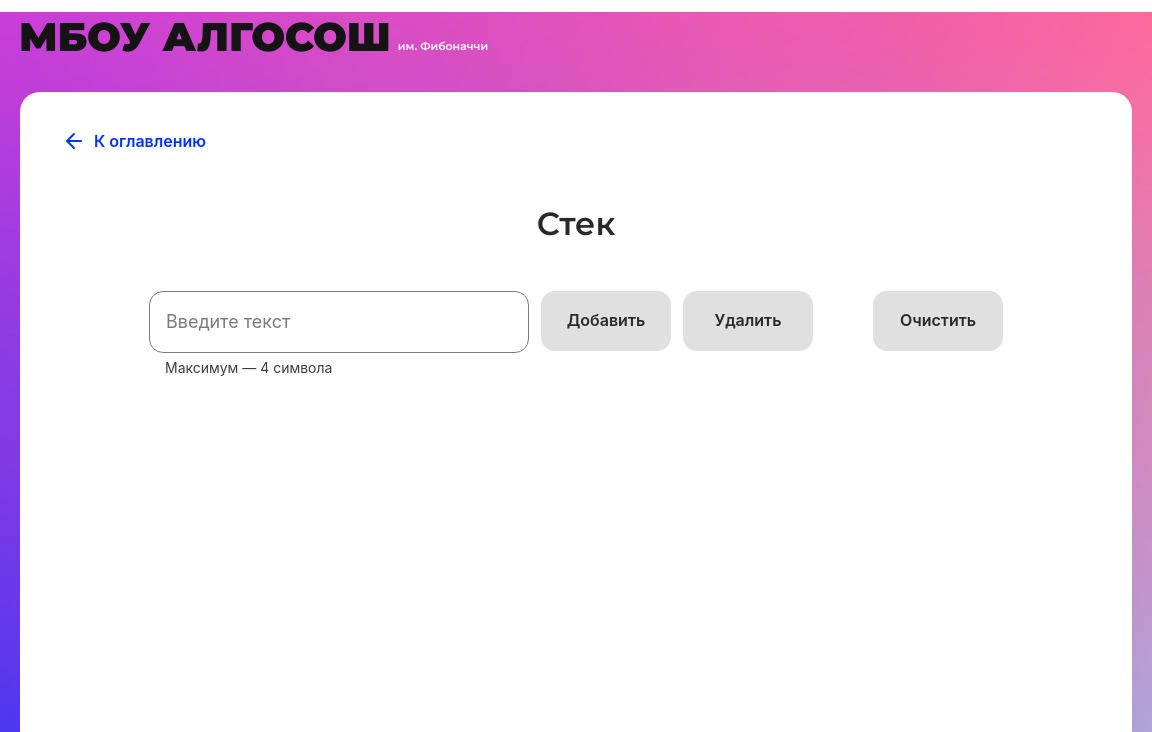
Test: stack works right › element removal works right
Type "1" into the field with test id "mainInput" at (339, 322), box x1=149 y1=291 x2=529 y2=353
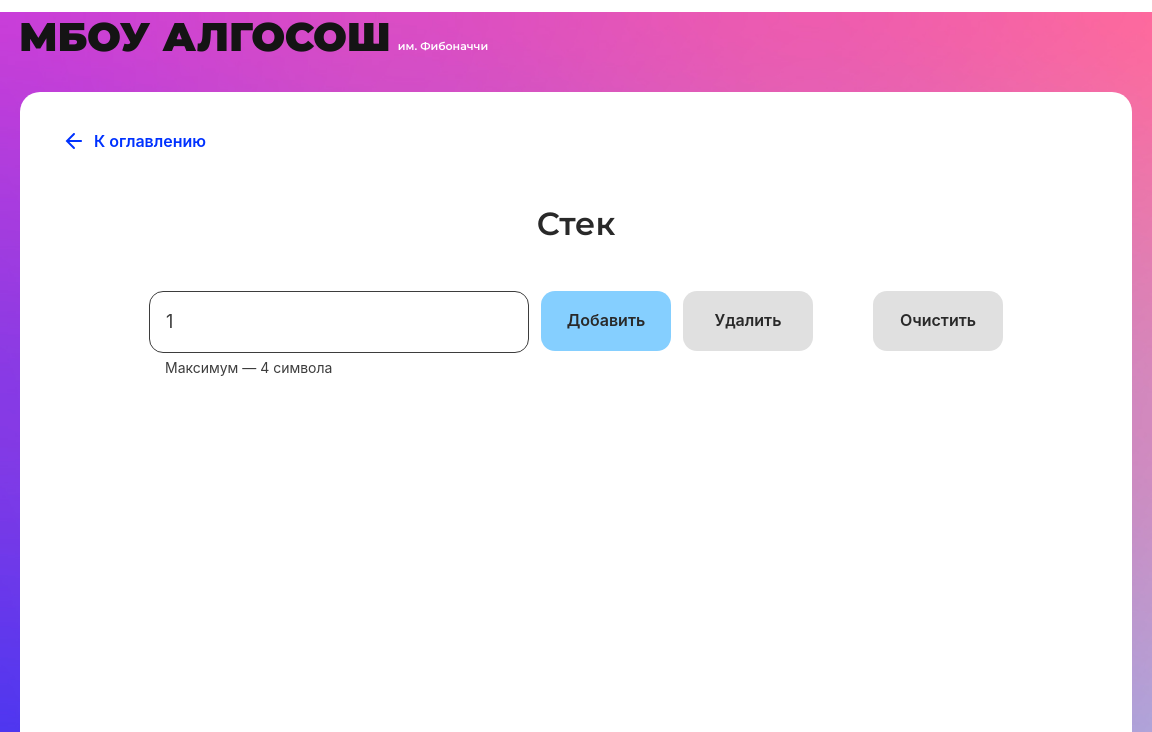
Click the button with test id "actionButton" at (606, 321), box x1=541 y1=291 x2=671 y2=351
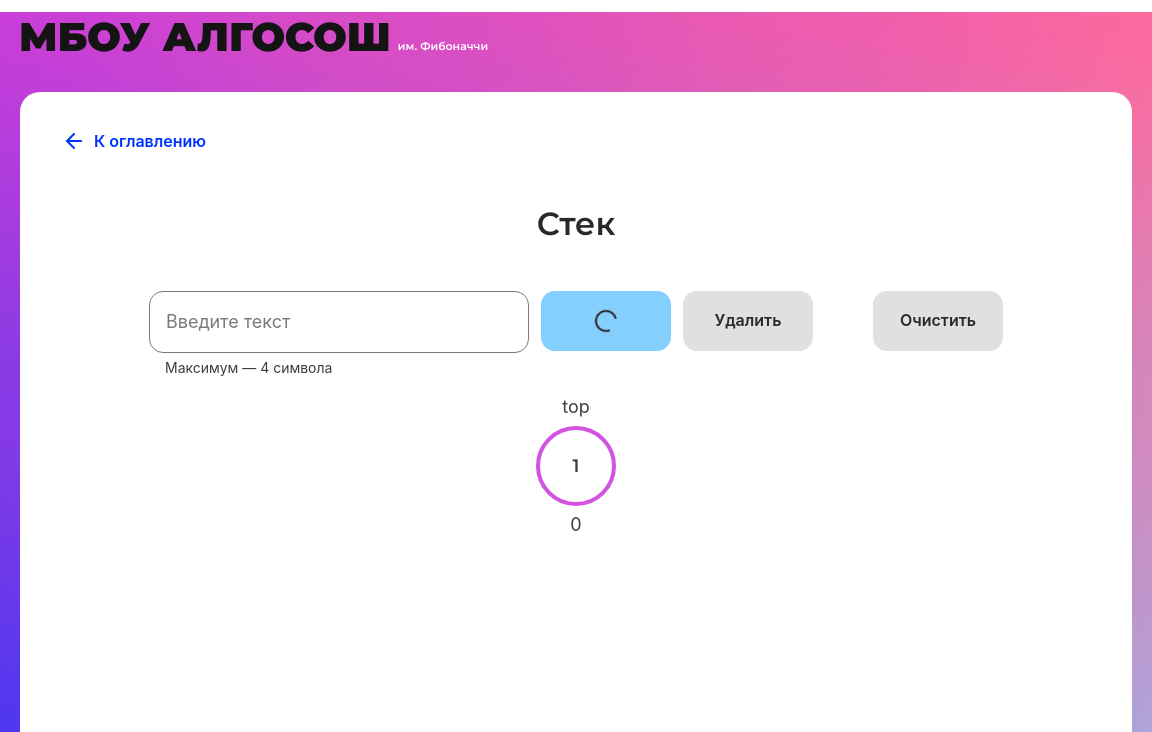
Type "2" into the field with test id "mainInput" at (339, 322), box x1=149 y1=291 x2=529 y2=353
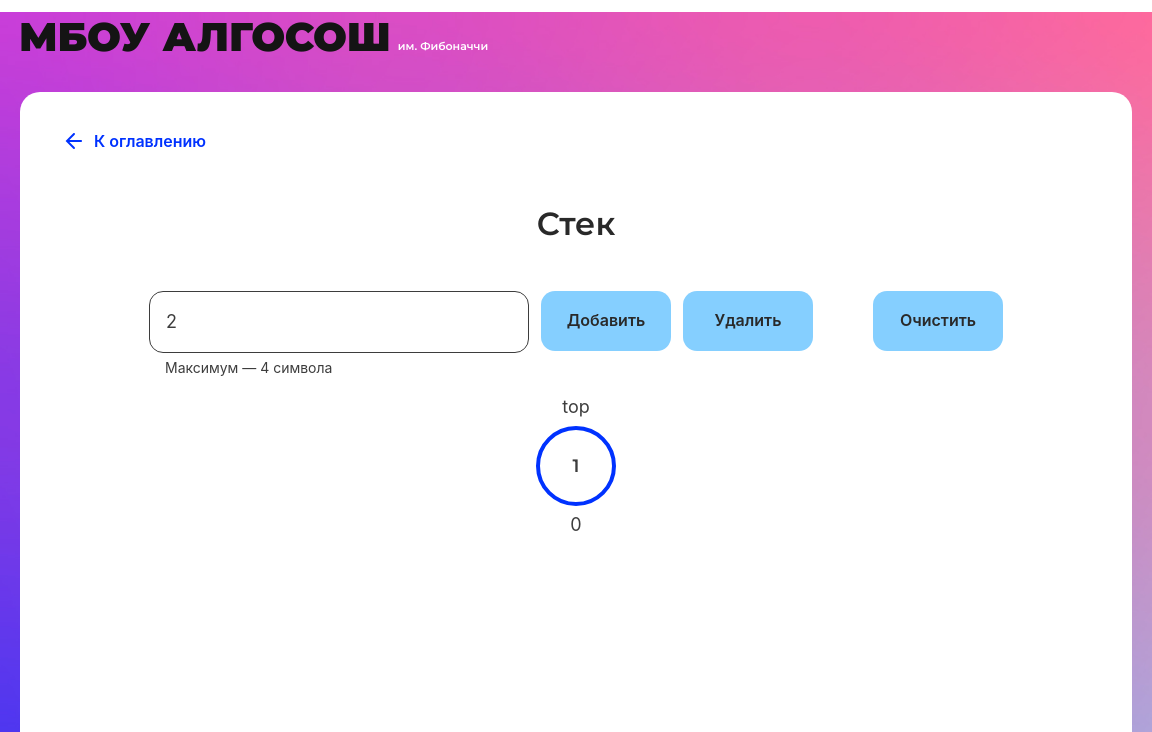
Click the button with test id "actionButton" at (606, 321), box x1=541 y1=291 x2=671 y2=351
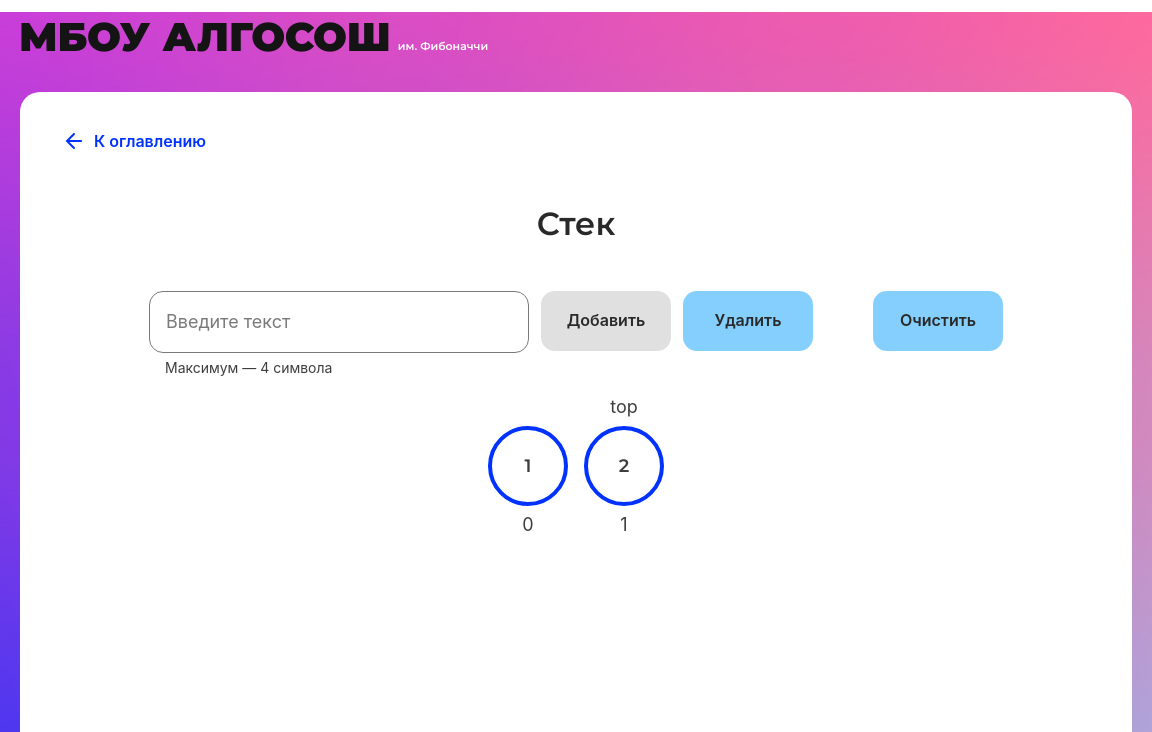
Click the button with test id "delButton" at (748, 321), box x1=683 y1=291 x2=813 y2=351
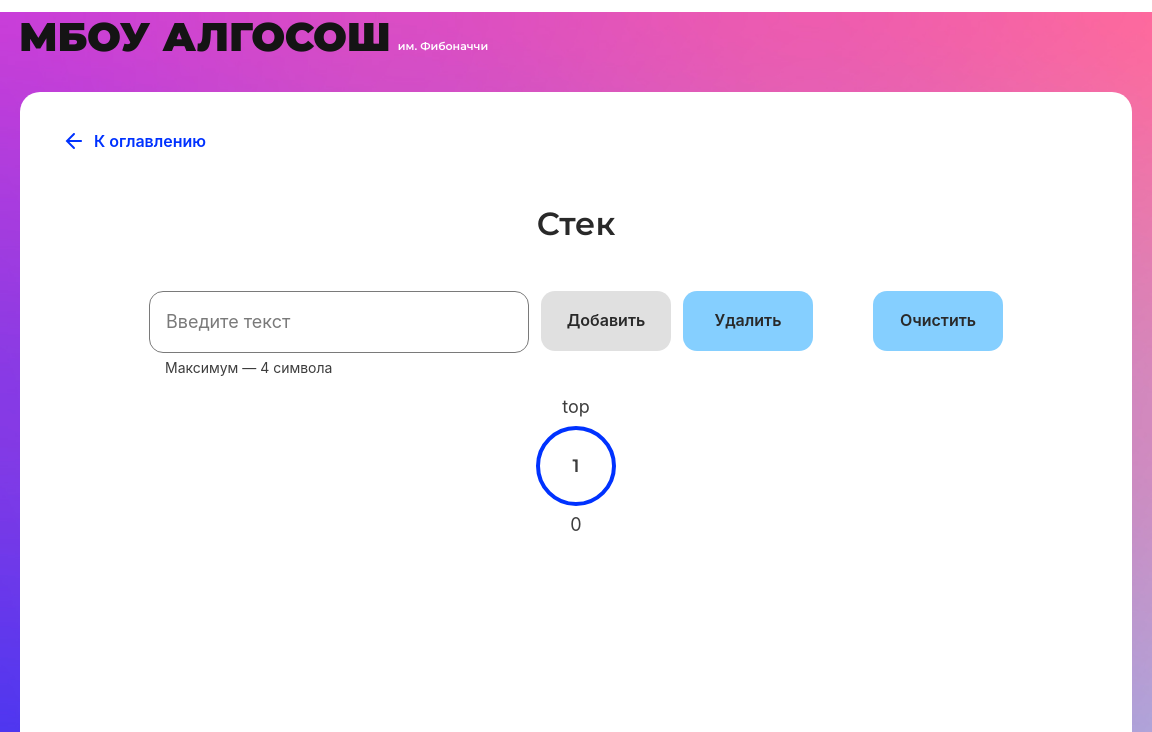
Result: the text with test id "circleHead" reads "top" at x1=562 y1=396 x2=590 y2=417
Result: the text with test id "circleIndex" reads "0" at x1=570 y1=514 x2=581 y2=535
Result: the number of elements with test id "circle" is 1 at x1=536 y1=426 x2=616 y2=506
